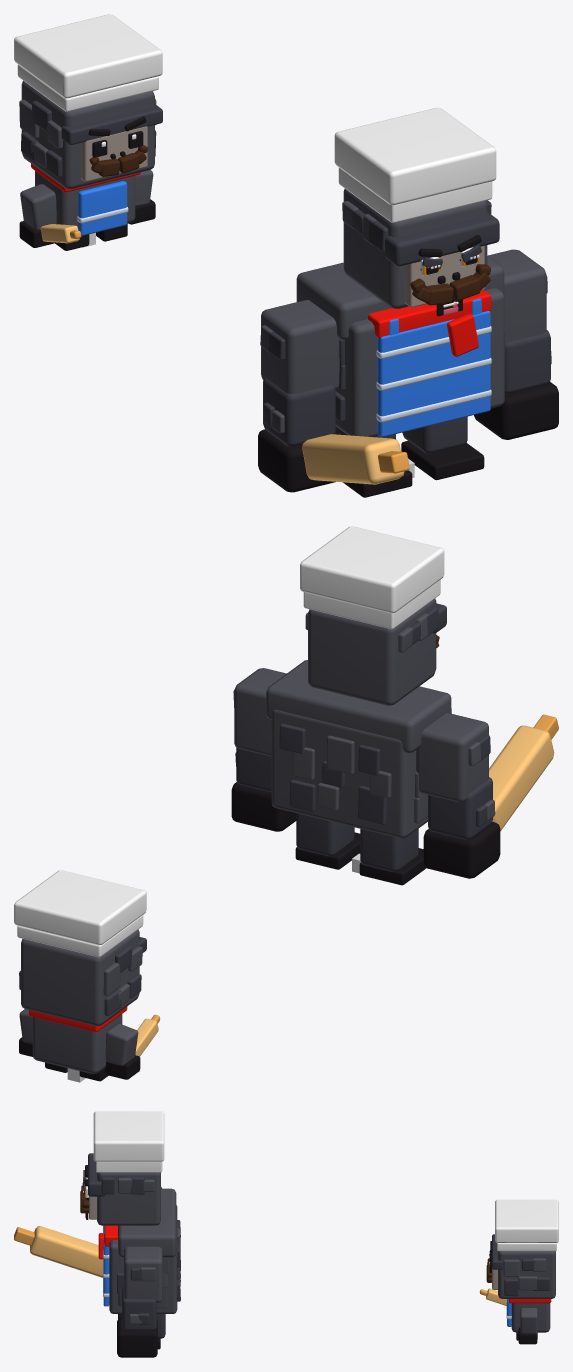
The model's file is Restyle_B05.fbx.
3 views of the same model, one above another, from view 1: azimuth 30°, elevation 25°; view 2: azimuth 150°, elevation 25°; view 3: azimuth 270°, elevation 25° (orthographic). The views are drawn at different scales.
Parts seen in each view (by area): view 1: B05__Head_Cap, B05__Body, B05__Body_Apron, P05__Head_Cap, B05__RightUpperArm, B05__Head, P05__Head, B05__RightHand_RollingPin, B05__Head_FurDark, B05__LeftUpperArm, B05__RightLowerArm, P05__Body (+20 smaller); view 2: B05__Body, B05__Head, B05__Head_Cap, P05__Head, P05__Head_Cap, B05__RightUpperArm, P05__Body, B05__RightHand_RollingPin, B05__Body_FurDark, B05__RightHand, B05__LeftUpperArm, B05__RightLowerArm (+11 smaller); view 3: B05__Body, B05__Head_Cap, B05__Head, P05__Head_Cap, P05__Head, B05__RightHand_RollingPin, B05__LeftUpperArm, P05__Body, B05__LeftHand, B05__LeftLowerArm, B05__Head_FurDark, P05__Head_FurDark (+5 smaller).
Part boxes in pixels (x1,y1,x2,y2): B05__Head_Cap: (334, 107, 496, 205); B05__Body: (296, 255, 504, 437); B05__Body_Apron: (377, 298, 490, 437); P05__Head_Cap: (14, 14, 162, 98); B05__RightUpperArm: (260, 300, 339, 393); B05__Head: (342, 189, 487, 308); P05__Head: (19, 80, 156, 188); B05__RightHand_RollingPin: (302, 434, 404, 484); B05__Head_FurDark: (352, 200, 499, 266); B05__LeftUpperArm: (488, 249, 546, 343); B05__RightLowerArm: (263, 378, 335, 446); P05__Body: (20, 170, 153, 229); B05__Body: (266, 660, 451, 838); B05__Head: (305, 598, 436, 705); B05__Head_Cap: (300, 526, 444, 613); P05__Head: (21, 929, 142, 1025); P05__Head_Cap: (14, 870, 146, 945); B05__RightUpperArm: (416, 713, 488, 802); P05__Body: (19, 1009, 138, 1073); B05__RightHand_RollingPin: (489, 725, 554, 831); B05__Body_FurDark: (279, 723, 386, 824); B05__RightHand: (423, 822, 500, 878); B05__LeftUpperArm: (233, 668, 286, 756); B05__RightLowerArm: (428, 777, 492, 839); B05__Body: (109, 1188, 180, 1313); B05__Head_Cap: (93, 1111, 164, 1161); B05__Head: (97, 1172, 160, 1225); P05__Head_Cap: (495, 1199, 558, 1242); P05__Head: (498, 1251, 555, 1298); B05__RightHand_RollingPin: (30, 1226, 102, 1277); B05__LeftUpperArm: (124, 1246, 162, 1302); P05__Body: (511, 1303, 550, 1333); B05__LeftHand: (117, 1317, 157, 1357); B05__LeftLowerArm: (122, 1287, 156, 1330); B05__Head_FurDark: (88, 1153, 144, 1196); P05__Head_FurDark: (492, 1234, 549, 1296).
Size of the model in its own units: 1993 by 2393 by 5624.
